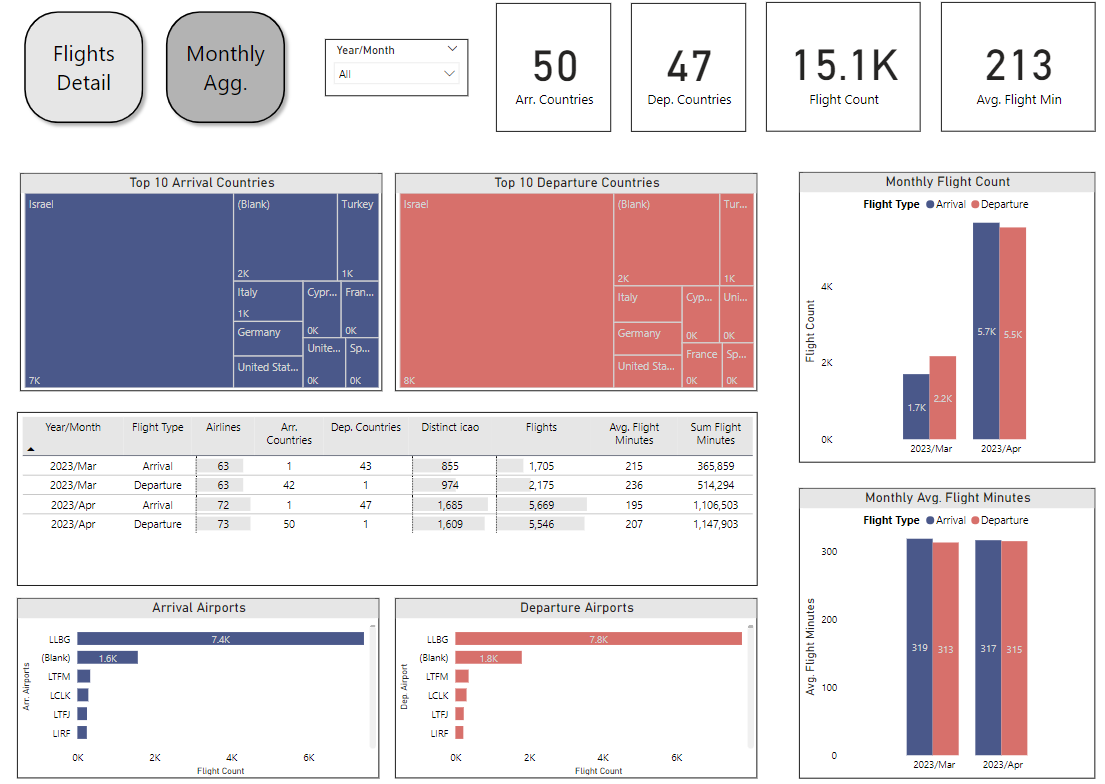

This screenshot's page, from the dashboard's own definition file:
{"tool":"powerbi","page":{"name":"Monthly Agg.","canvas":[1400,1000],"ordinal":1},"visuals":[{"type":"clusteredColumnChart","title":"Monthly Avg. Flight Minutes","fields":{"Category":["Calendar.YearMonthShort"],"Series":["dim_monthly_flights_agg.flight_type"],"Y":["Avg(dim_monthly_flights_agg.avg_flight_minutes)"]},"box":[1005.1,621.5,367.9,361.2],"z":0},{"type":"card","fields":{"Values":["Sum(dim_monthly_country_agg.cnt_flights)"]},"box":[963.6,18,192.4,160.6],"z":1000},{"type":"tableEx","fields":{"Values":["Calendar.YearMonthShort","dim_monthly_country_agg.flight_type","Sum(dim_monthly_country_agg.cnt_airlines)","Sum(dim_monthly_country_agg.cnt_arr_country)","Sum(dim_monthly_country_agg.cnt_dep_country)","Sum(dim_monthly_country_agg.cnt_distinct_icao24)","Sum(dim_monthly_country_agg.cnt_flights)","Avg(dim_monthly_country_agg.avg_flight_minutes)","Sum(dim_monthly_country_agg.sum_flight_minutes)"]},"box":[33.5,527,920.2,215.8],"z":2000},{"type":"card","fields":{"Values":["Max(dim_monthly_country_agg.cnt_arr_country)"]},"box":[628.2,18.7,142.6,159.6],"z":3000},{"type":"card","fields":{"Values":["Max(dim_monthly_country_agg.cnt_dep_country)"]},"box":[795.9,18.7,142.6,159.6],"z":4000},{"type":"slicer","fields":{"Values":["Calendar.YearMonthShort"]},"box":[416,62.8,178.3,71.3],"z":5000},{"type":"clusteredColumnChart","title":"Monthly Flight Count","fields":{"Category":["Calendar.YearMonthShort"],"Y":["Sum(dim_monthly_country_agg.cnt_flights)"],"Series":["dim_monthly_country_agg.flight_type"]},"box":[1005.1,228.8,367.9,361.2],"z":6000},{"type":"treemap","title":"Top 10 Arrival Countries","fields":{"Group":["dim_monthly_flights_agg.arr_airport_country"],"Values":["Sum(dim_monthly_flights_agg.cnt_flights)"]},"box":[36.8,229.2,450,271],"z":7000},{"type":"barChart","title":"Arrival Airports","fields":{"Category":["dim_daily_flights_agg.arr_airport"],"Y":["Sum(dim_daily_flights_agg.cnt_flights)"]},"box":[33.5,757.9,450,224.2],"z":8000},{"type":"treemap","title":"Top 10 Departure Countries","fields":{"Group":["dim_monthly_flights_agg.dep_airport_country"],"Values":["Sum(dim_monthly_flights_agg.cnt_flights)"]},"box":[503.6,229.2,450,271],"z":9000},{"type":"barChart","title":"Departure Airports","fields":{"Category":["dim_daily_flights_agg.dep_airport"],"Y":["Sum(dim_daily_flights_agg.cnt_flights)"]},"box":[503.6,757.9,450,224.2],"z":10000},{"type":"card","fields":{"Values":["Avg(dim_monthly_country_agg.avg_flight_minutes)"]},"box":[1181.2,18,192.4,160.6],"z":11000},{"type":"pageNavigator","box":[34,20.4,343,157.9],"z":12001}]}

Visuals, with their boxes in screenshot pixels (x1, y1, x2, y2), scaled from the page's 1400x1000 canvas onto the 1105x784 screenshot:
"Monthly Avg. Flight Minutes" clusteredColumnChart: (793,487,1084,770)
card - Sum(dim_monthly_country_agg.cnt_flights): (761,14,912,140)
tableEx - Calendar.YearMonthShort x dim_monthly_country_agg.flight_type: (26,413,753,582)
card - Max(dim_monthly_country_agg.cnt_arr_country): (496,15,608,140)
card - Max(dim_monthly_country_agg.cnt_dep_country): (628,15,741,140)
slicer - Calendar.YearMonthShort: (328,49,469,105)
"Monthly Flight Count" clusteredColumnChart: (793,179,1084,463)
"Top 10 Arrival Countries" treemap: (29,180,384,392)
"Arrival Airports" barChart: (26,594,382,770)
"Top 10 Departure Countries" treemap: (397,180,753,392)
"Departure Airports" barChart: (397,594,753,770)
card - Avg(dim_monthly_country_agg.avg_flight_minutes): (932,14,1084,140)
pageNavigator: (27,16,298,140)
